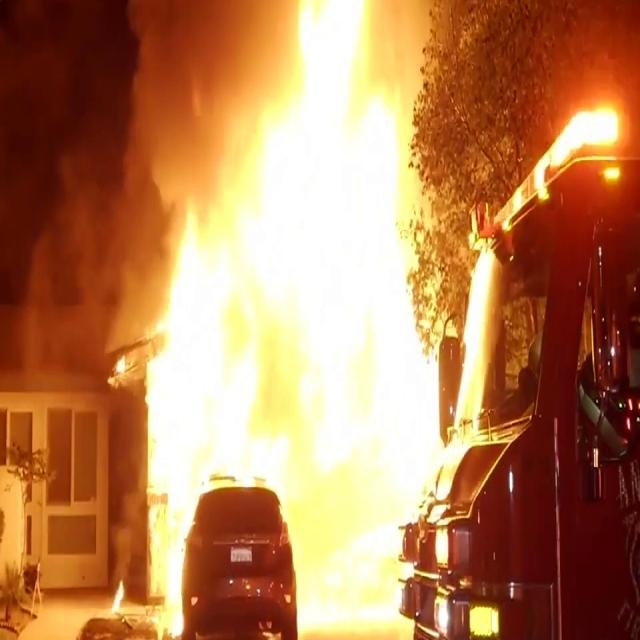fire: (243, 0, 410, 493), (303, 0, 407, 632), (146, 196, 244, 472)
smoke: (12, 4, 127, 328), (143, 0, 231, 156)
